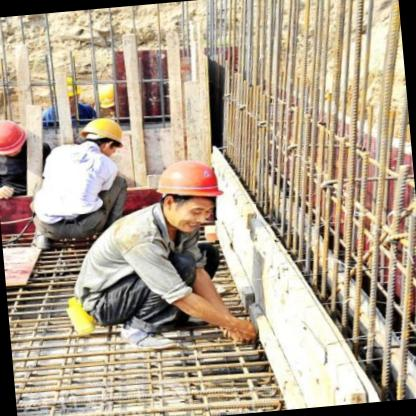helmet: (144, 153, 223, 233), (78, 114, 130, 164), (89, 81, 126, 118), (0, 116, 30, 161), (55, 72, 84, 110)
